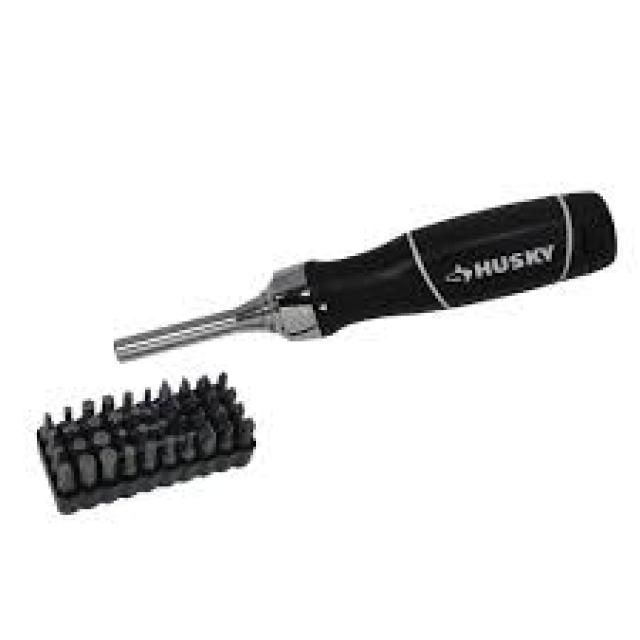screw driver: (57, 165, 640, 373)
